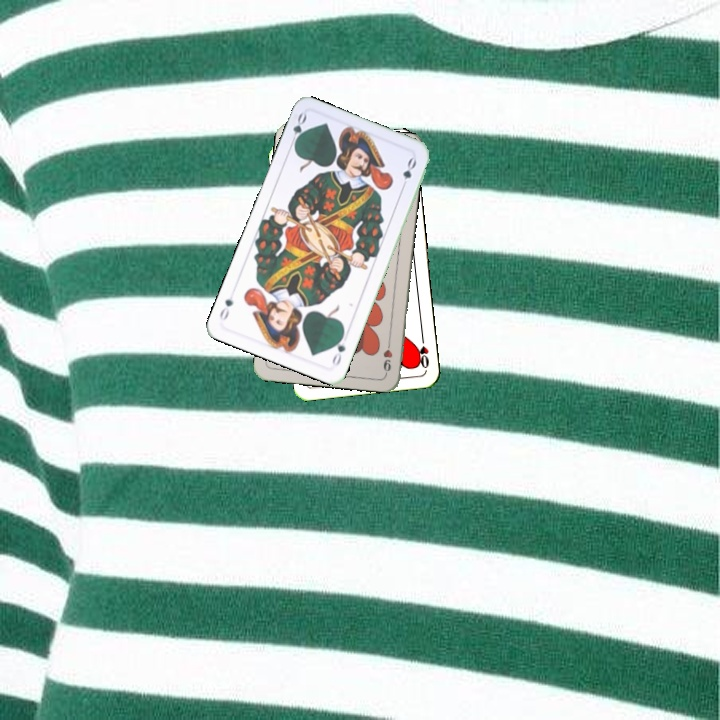GO: (286, 109, 309, 150), (328, 329, 348, 368)
H9: (379, 335, 395, 376)
HO: (414, 331, 432, 371)
